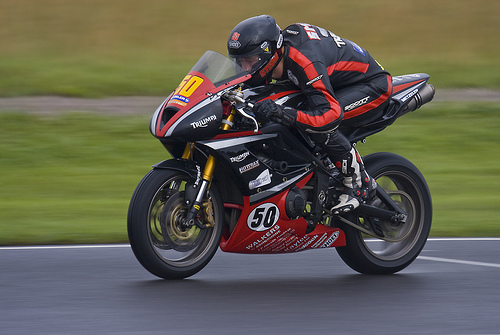helmet: (225, 21, 285, 64)
